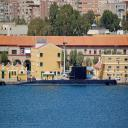submarine: (14, 60, 128, 88)
